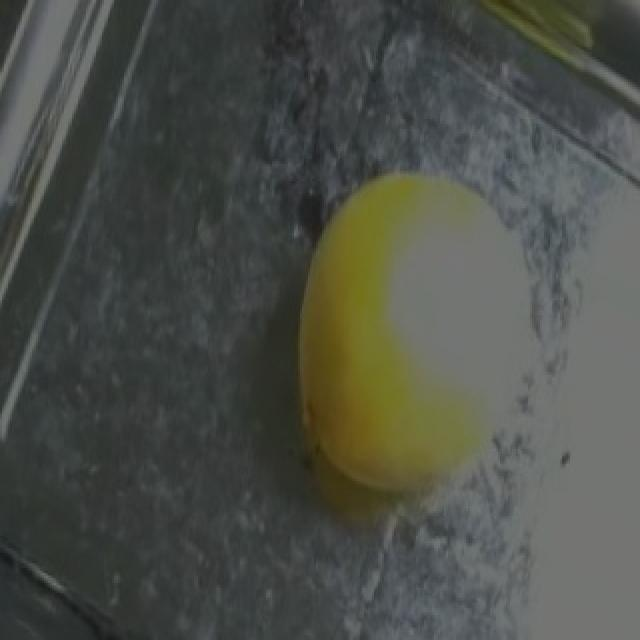fruit: (420, 0, 638, 87)
